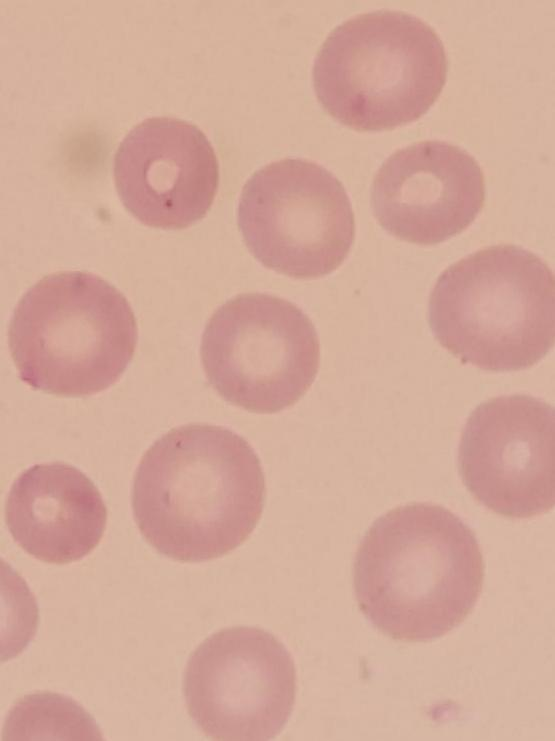Uninfected: (136, 417, 269, 562), (354, 501, 481, 643), (430, 245, 555, 374), (2, 269, 130, 393), (310, 16, 449, 128), (198, 293, 315, 416), (236, 161, 354, 276), (182, 625, 297, 741), (458, 395, 555, 516), (370, 143, 481, 248), (118, 119, 214, 230), (6, 461, 111, 560)
